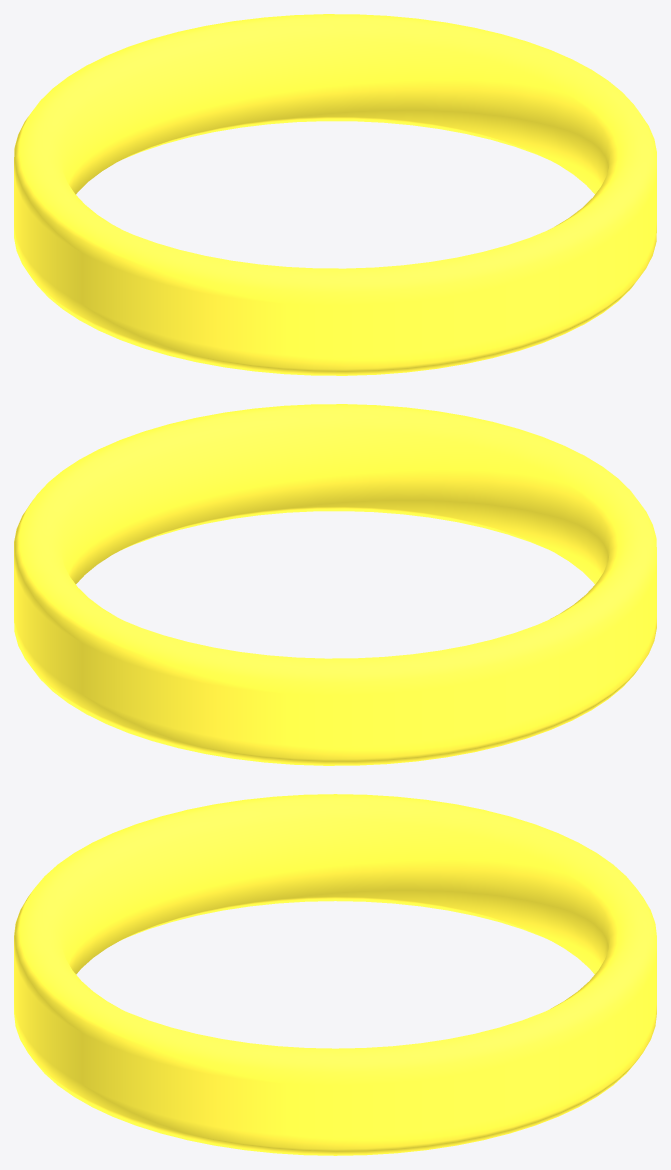
File: ring.fbx
The picture shows the model from 3 angles, top to bottom: view 1: azimuth 30°, elevation 25°; view 2: azimuth 150°, elevation 25°; view 3: azimuth 270°, elevation 25°; orthographic projection.
Visible parts, largest first — view 1: Cylinder; view 2: Cylinder; view 3: Cylinder.
Part boxes in pixels (bbox=[...]): Cylinder: bbox=[14, 14, 656, 375]; Cylinder: bbox=[14, 404, 656, 765]; Cylinder: bbox=[14, 794, 656, 1155].
Bounding box in the file's own units: 4.58 × 0.7999 × 4.58.
